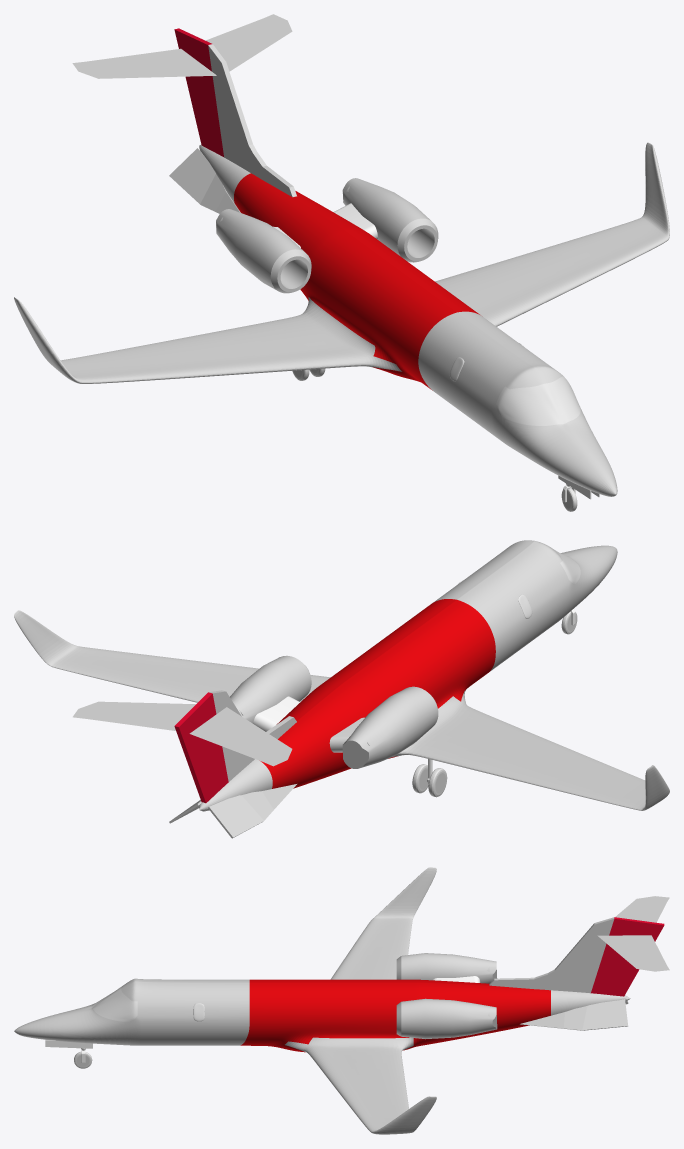
3 views of the same model, one above another, from view 1: azimuth 30°, elevation 25°; view 2: azimuth 150°, elevation 25°; view 3: azimuth 270°, elevation 25° (orthographic). The views are drawn at different scales.
Visible parts, largest first — view 1: Hull adn wings_7, Cylinder.001_1, Vertical wing_11, Plane.002_9, Rear wings down_10; view 2: Hull adn wings_7, Cylinder.001_1, Plane.002_9, Vertical wing_11, Rear wings down_10, Cylinder.002_2, Cylinder.005_5; view 3: Hull adn wings_7, Cylinder.001_1, Vertical wing_11, Plane.002_9, Rear wings down_10.
Boxes of the visible parts, <box> form: Hull adn wings_7: <box>14,142,669,496</box>; Cylinder.001_1: <box>216,178,438,293</box>; Vertical wing_11: <box>174,28,296,197</box>; Plane.002_9: <box>72,14,292,78</box>; Rear wings down_10: <box>169,148,240,213</box>; Hull adn wings_7: <box>14,540,669,811</box>; Cylinder.001_1: <box>230,655,438,768</box>; Plane.002_9: <box>73,701,292,766</box>; Vertical wing_11: <box>174,690,296,803</box>; Rear wings down_10: <box>169,784,296,838</box>; Cylinder.002_2: <box>253,696,364,752</box>; Cylinder.005_5: <box>412,764,447,797</box>; Hull adn wings_7: <box>14,867,630,1134</box>; Cylinder.001_1: <box>396,953,497,1039</box>; Vertical wing_11: <box>489,917,664,996</box>; Plane.002_9: <box>597,896,669,971</box>; Rear wings down_10: <box>520,999,628,1030</box>.
Size of the model in its own units: 6.76 by 2.07 by 8.16.
